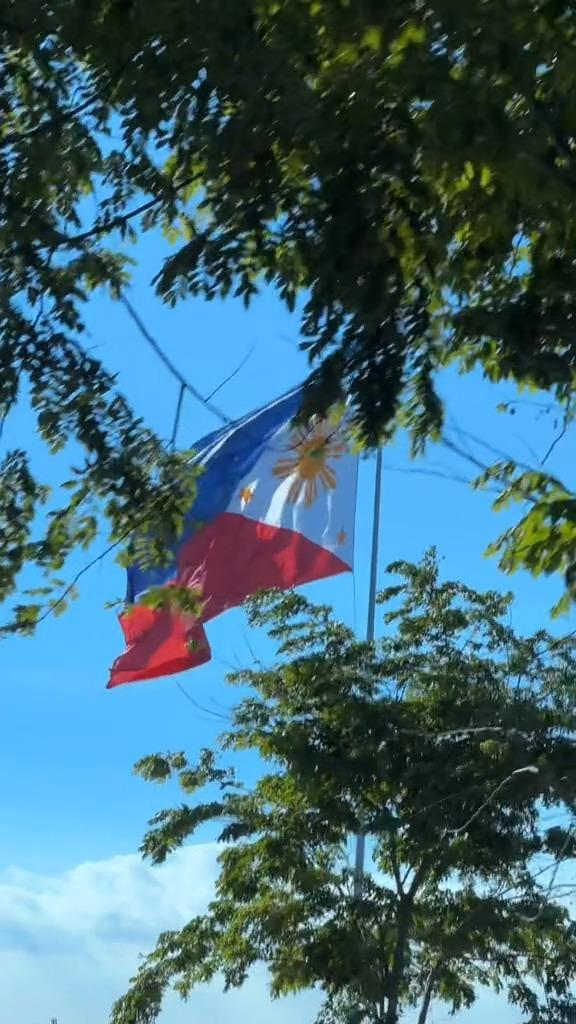Philippines: (109, 343, 362, 690)
